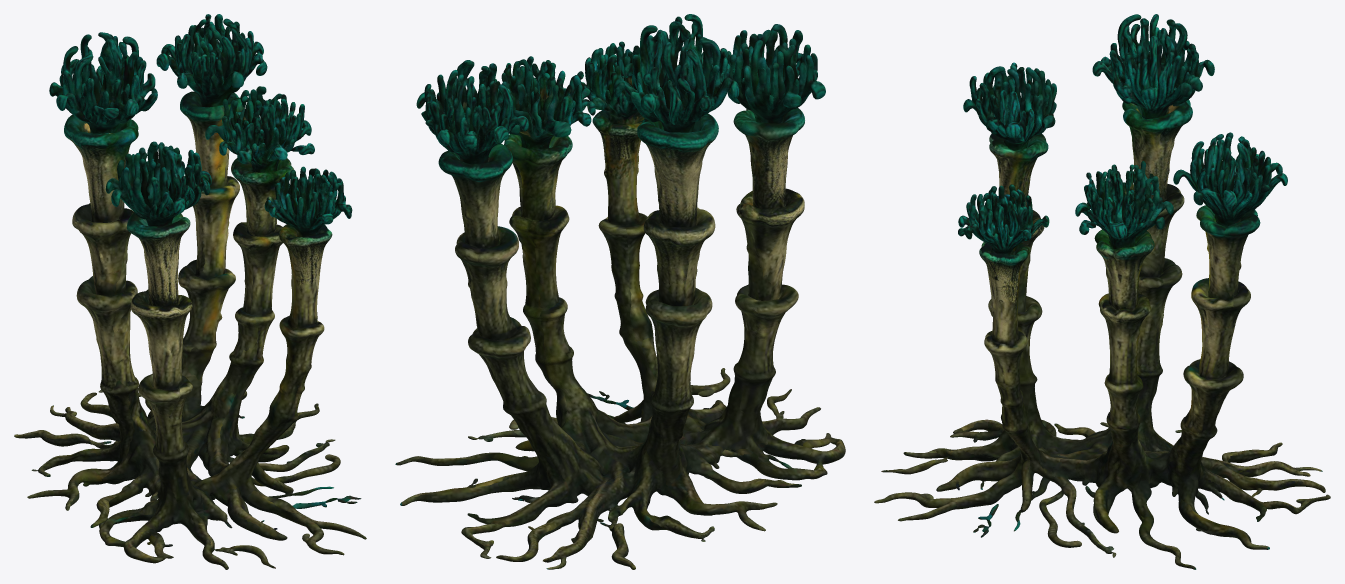
Rendered from Crown Stalks.glb.
The picture shows the model from 3 angles, left to right: view 1: azimuth 30°, elevation 25°; view 2: azimuth 150°, elevation 25°; view 3: azimuth 270°, elevation 25°; orthographic projection. The views are drawn at different scales.
Parts seen in each view (by area): view 1: tripo_node_577600e3-5089-41c4-8912-6a927c82e3aa; view 2: tripo_node_577600e3-5089-41c4-8912-6a927c82e3aa; view 3: tripo_node_577600e3-5089-41c4-8912-6a927c82e3aa.
Part boxes in pixels (left/top/right/bottom): tripo_node_577600e3-5089-41c4-8912-6a927c82e3aa: left=14, top=14, right=366, bottom=569; tripo_node_577600e3-5089-41c4-8912-6a927c82e3aa: left=395, top=14, right=845, bottom=569; tripo_node_577600e3-5089-41c4-8912-6a927c82e3aa: left=874, top=14, right=1330, bottom=569.
Bounding box in the file's own units: 0.7325 × 1 × 0.9302.
Materials: 1 (1 with a texture image).
